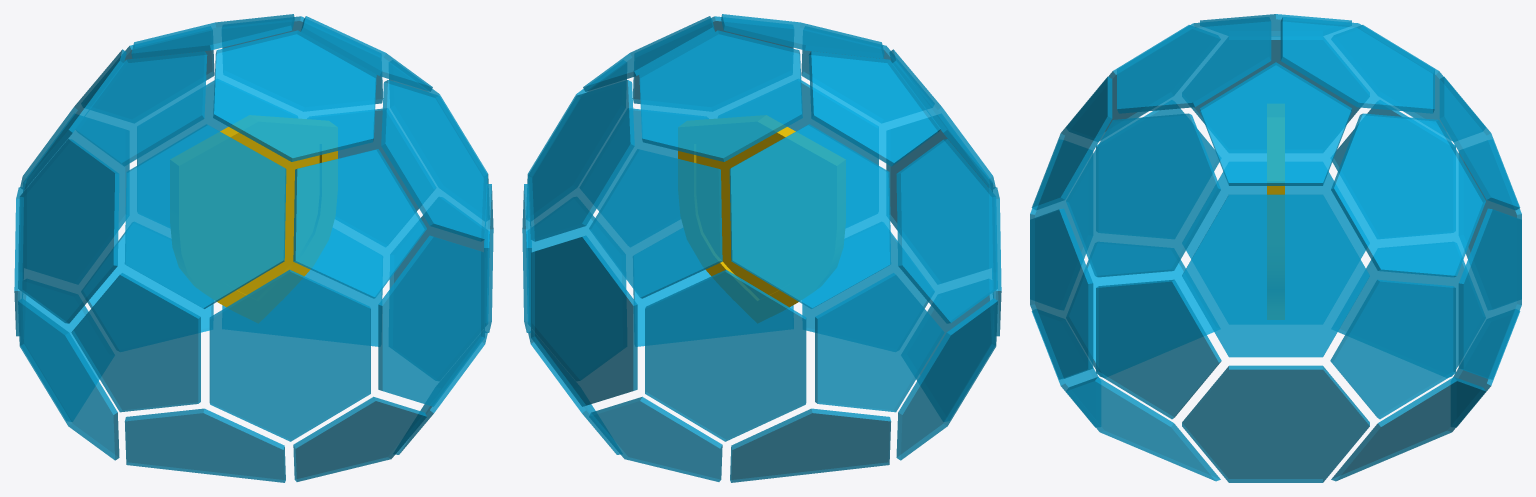
The model's file is Escudo.fbx.
3 views of the same model, side by side, from view 1: azimuth 30°, elevation 25°; view 2: azimuth 150°, elevation 25°; view 3: azimuth 270°, elevation 25° (orthographic).
Visible parts, largest first — view 1: Shield2; view 2: Shield2; view 3: Shield2.
Part boxes in pixels (<box>): Shield2: <box>14,14,493,482</box>; Shield2: <box>522,14,1001,482</box>; Shield2: <box>1030,14,1521,482</box>.
Size of the model in its own units: 2.13 by 1.75 by 2.13.
